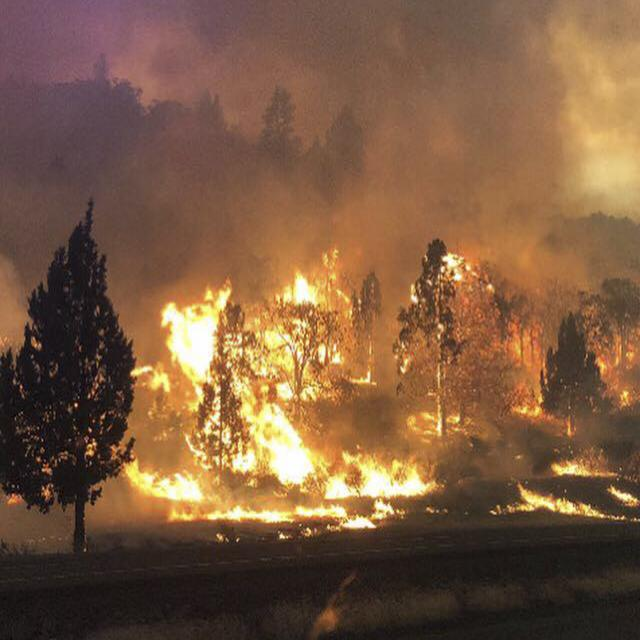Fire: (107, 270, 436, 524), (489, 442, 640, 524)
